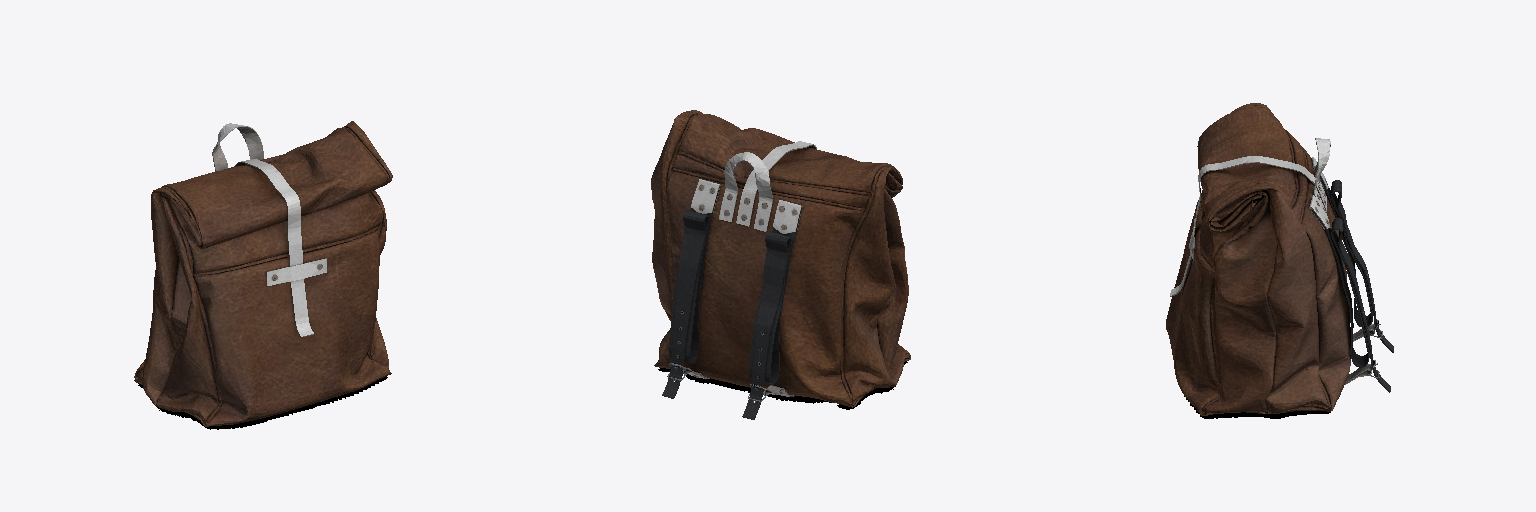
The picture shows the model from 3 angles: view 1: azimuth 30°, elevation 25°; view 2: azimuth 150°, elevation 25°; view 3: azimuth 270°, elevation 25°; orthographic projection.
Parts seen in each view (by area): view 1: solid_003, solid_002, solid_001, shadow; view 2: solid_003, solid_005, solid_002, shadow; view 3: solid_003, solid_005, solid_002, solid_001, shadow.
Boxes of the visible parts, x1,y1,x2,y2 form: solid_003: [134, 121, 392, 426]; solid_002: [215, 123, 326, 336]; solid_001: [212, 126, 326, 336]; shadow: [138, 376, 387, 429]; solid_003: [651, 110, 910, 407]; solid_005: [662, 187, 801, 419]; solid_002: [677, 141, 815, 396]; shadow: [658, 361, 907, 409]; solid_003: [1166, 103, 1350, 415]; solid_005: [1311, 176, 1393, 392]; solid_002: [1170, 138, 1374, 381]; solid_001: [1170, 138, 1374, 384]; shadow: [1184, 396, 1330, 418].
Bounding box in the file's own units: 0.3213 × 0.2772 × 0.2781.
Materials: 1 (1 with a texture image).